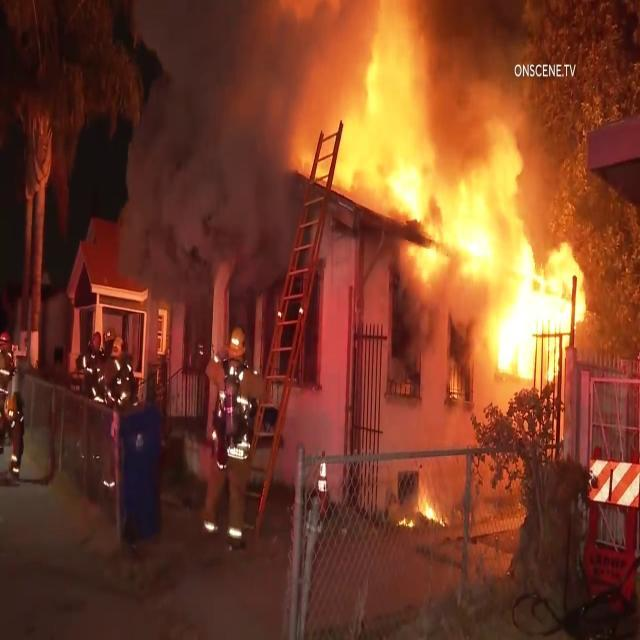Fire: (316, 78, 576, 360)
Smoke: (154, 0, 281, 273)
